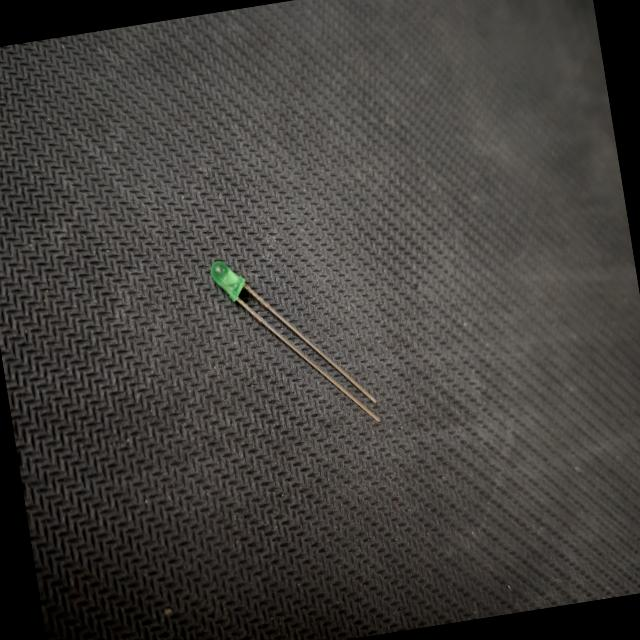led: (204, 236, 390, 448)
